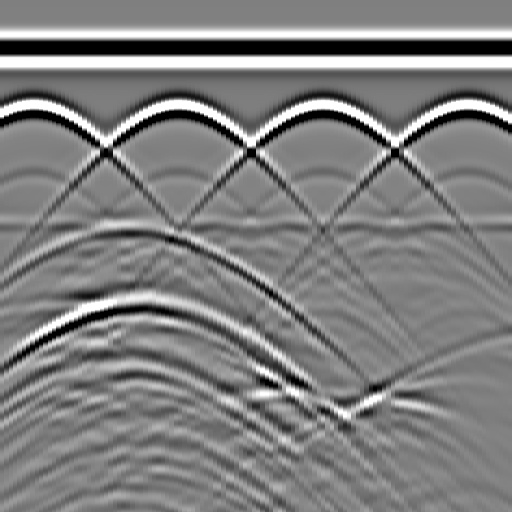grout_surface: (1, 210, 512, 240)
rebar: (12, 88, 52, 128), (156, 88, 196, 128), (300, 88, 340, 128), (444, 88, 484, 128)
rock_surface: (1, 303, 511, 404)
water_void: (106, 205, 166, 245)
